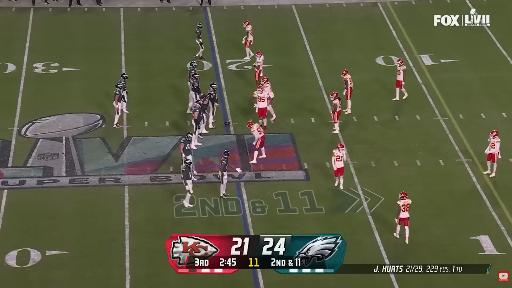Helmet: (490, 130, 498, 139), (261, 77, 270, 85), (186, 131, 192, 142), (195, 99, 203, 107), (210, 82, 218, 90), (257, 85, 264, 94), (399, 192, 407, 199), (331, 92, 338, 100), (337, 144, 344, 151), (396, 59, 403, 66), (197, 22, 203, 30), (223, 150, 229, 157), (244, 20, 250, 27), (122, 73, 128, 80), (193, 74, 200, 80), (207, 93, 212, 101), (342, 70, 348, 76), (256, 51, 262, 57), (116, 84, 122, 90), (185, 160, 191, 166), (248, 120, 253, 127), (190, 62, 197, 67)
Jersey: (398, 199, 411, 218), (254, 91, 267, 107), (191, 104, 203, 121), (333, 150, 345, 167), (251, 124, 264, 139), (488, 137, 500, 153), (181, 137, 191, 156), (201, 95, 209, 114), (263, 83, 273, 98), (208, 88, 218, 103), (343, 75, 353, 90), (190, 78, 200, 93), (182, 165, 192, 180), (220, 157, 228, 175), (245, 25, 253, 41), (114, 88, 123, 102), (397, 66, 405, 81), (255, 55, 263, 69), (188, 67, 197, 79), (333, 98, 341, 110), (119, 78, 126, 91), (196, 28, 201, 40)
Player: (394, 192, 411, 243), (180, 132, 197, 180), (248, 121, 266, 163), (484, 130, 500, 177), (219, 150, 233, 198), (254, 85, 268, 131), (262, 77, 276, 120), (332, 144, 345, 189), (393, 59, 407, 100), (191, 100, 202, 149), (182, 160, 193, 207), (342, 70, 353, 114), (208, 83, 218, 128), (189, 72, 201, 109), (113, 84, 123, 127), (200, 94, 211, 133), (331, 92, 341, 133), (243, 21, 253, 59), (195, 23, 204, 59), (120, 73, 128, 113), (254, 51, 263, 86), (188, 61, 197, 90)
